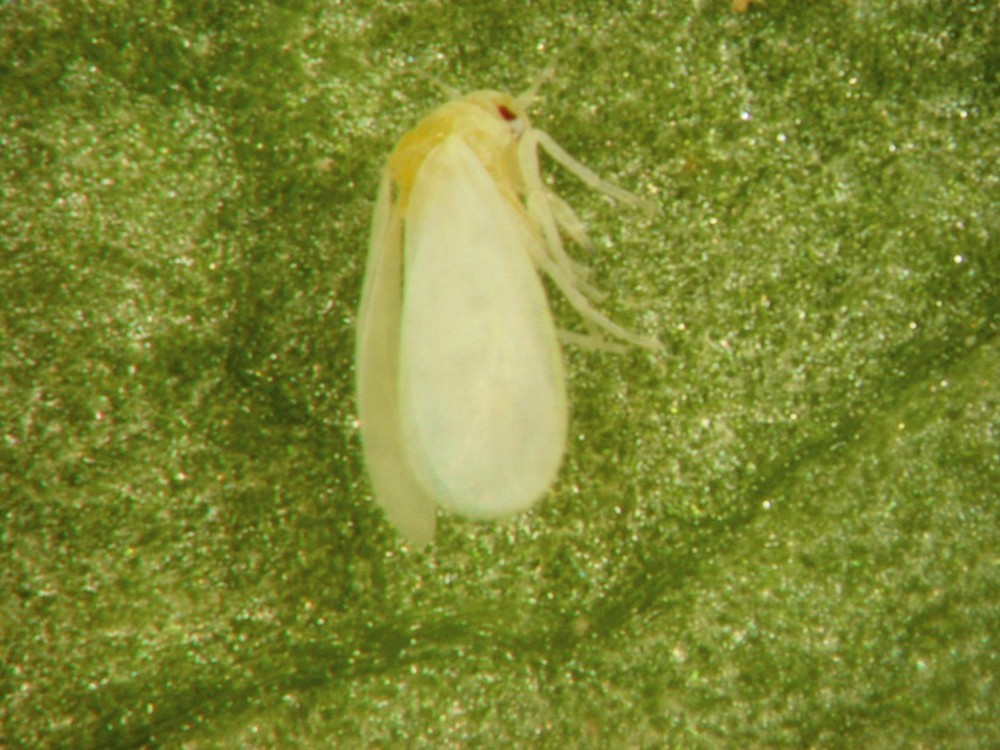Mosca Blanca: (305, 58, 662, 549)
